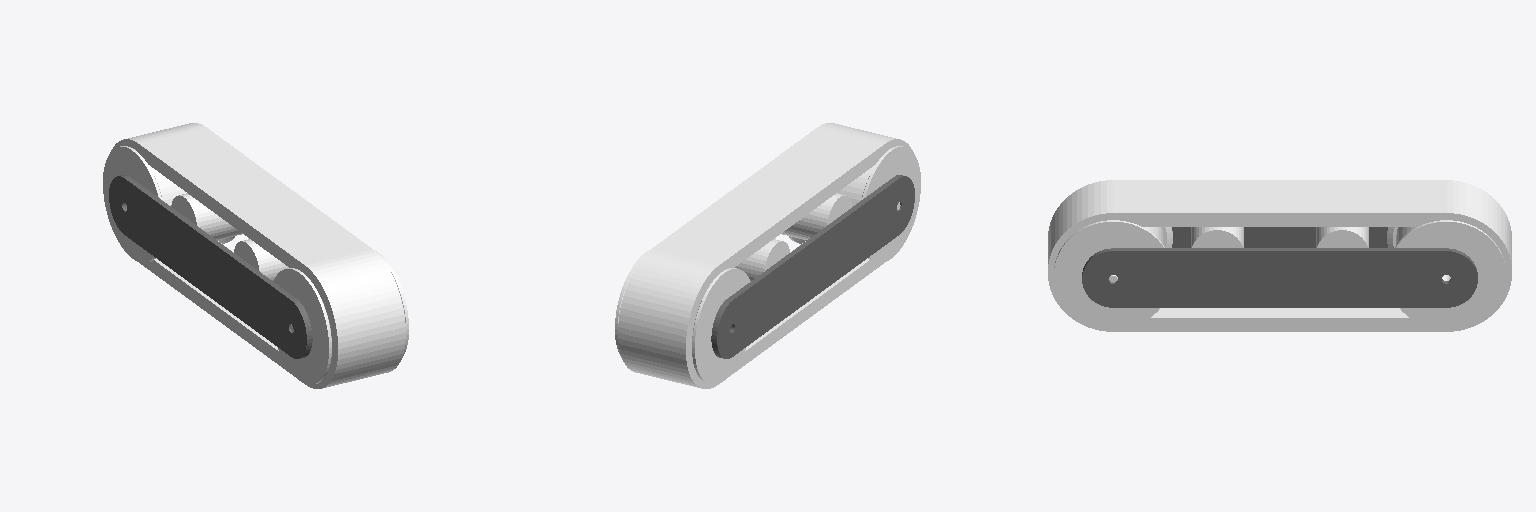
The model's file is brazo_der_trasero_v2.obj.
3 renders of one model, left to right at view 1: azimuth 30°, elevation 25°; view 2: azimuth 150°, elevation 25°; view 3: azimuth 270°, elevation 25°, orthographic.
Visible parts, largest first — view 1: Object.1; view 2: Object.1; view 3: Object.1.
Boxes of the visible parts, x1=… form: Object.1: x1=103, y1=123, x2=408, y2=388; Object.1: x1=615, y1=123, x2=920, y2=388; Object.1: x1=1048, y1=180, x2=1511, y2=331.
Size of the model in its own units: 107 by 126 by 446.